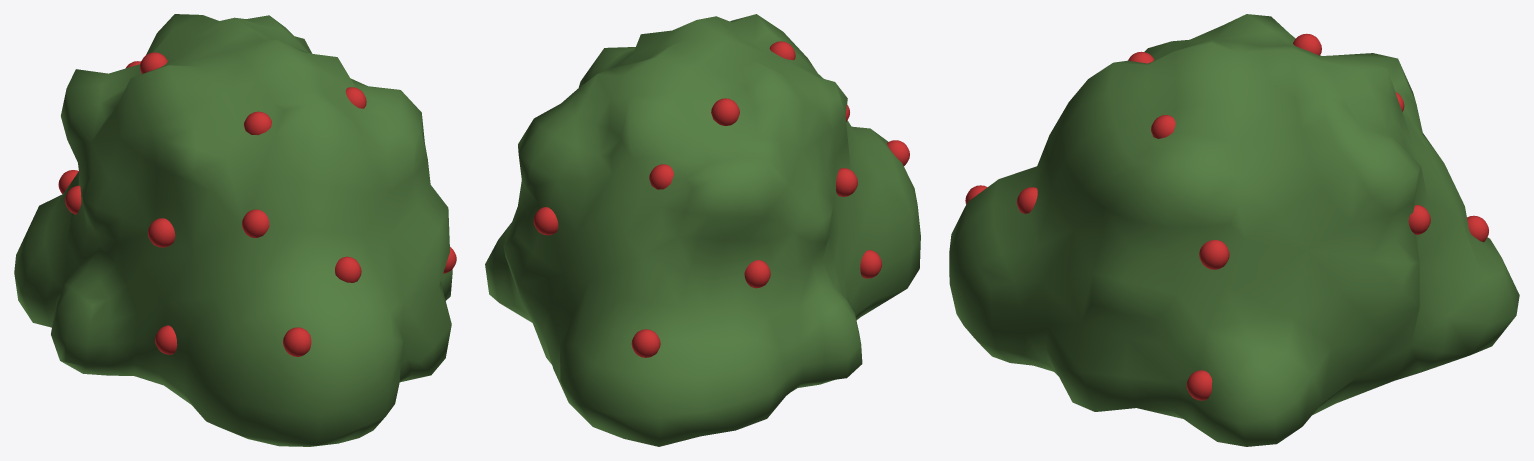
File: buisson.fbx
3 renders of one model, left to right at view 1: azimuth 30°, elevation 25°; view 2: azimuth 150°, elevation 25°; view 3: azimuth 270°, elevation 25°, orthographic. The views are drawn at different scales.
Visible parts, largest first — view 1: pSphere1, pSphere16, pSphere3, pSphere12, pSphere11, pSphere6, pSphere5; view 2: pSphere1, pSphere15, pSphere14, pSphere4, pSphere8, pSphere3, pSphere5, pSphere7; view 3: pSphere1, pSphere9, pSphere10.
Part boxes in pixels (x1,y1,x2,y2): pSphere1: (14, 14, 452, 446); pSphere16: (283, 327, 311, 356); pSphere3: (147, 218, 175, 247); pSphere12: (242, 209, 269, 237); pSphere11: (335, 256, 361, 282); pSphere6: (244, 111, 271, 135); pSphere5: (155, 325, 177, 354); pSphere1: (485, 14, 920, 446); pSphere15: (631, 329, 660, 357); pSphere14: (711, 98, 739, 125); pSphere4: (744, 260, 770, 288); pSphere8: (533, 207, 558, 235); pSphere3: (836, 168, 857, 196); pSphere5: (860, 250, 882, 278); pSphere7: (649, 164, 673, 189); pSphere1: (949, 14, 1519, 446); pSphere9: (1199, 240, 1229, 269); pSphere10: (1186, 370, 1212, 400).
Size of the model in its own units: 1.99 by 1.55 by 2.51.
